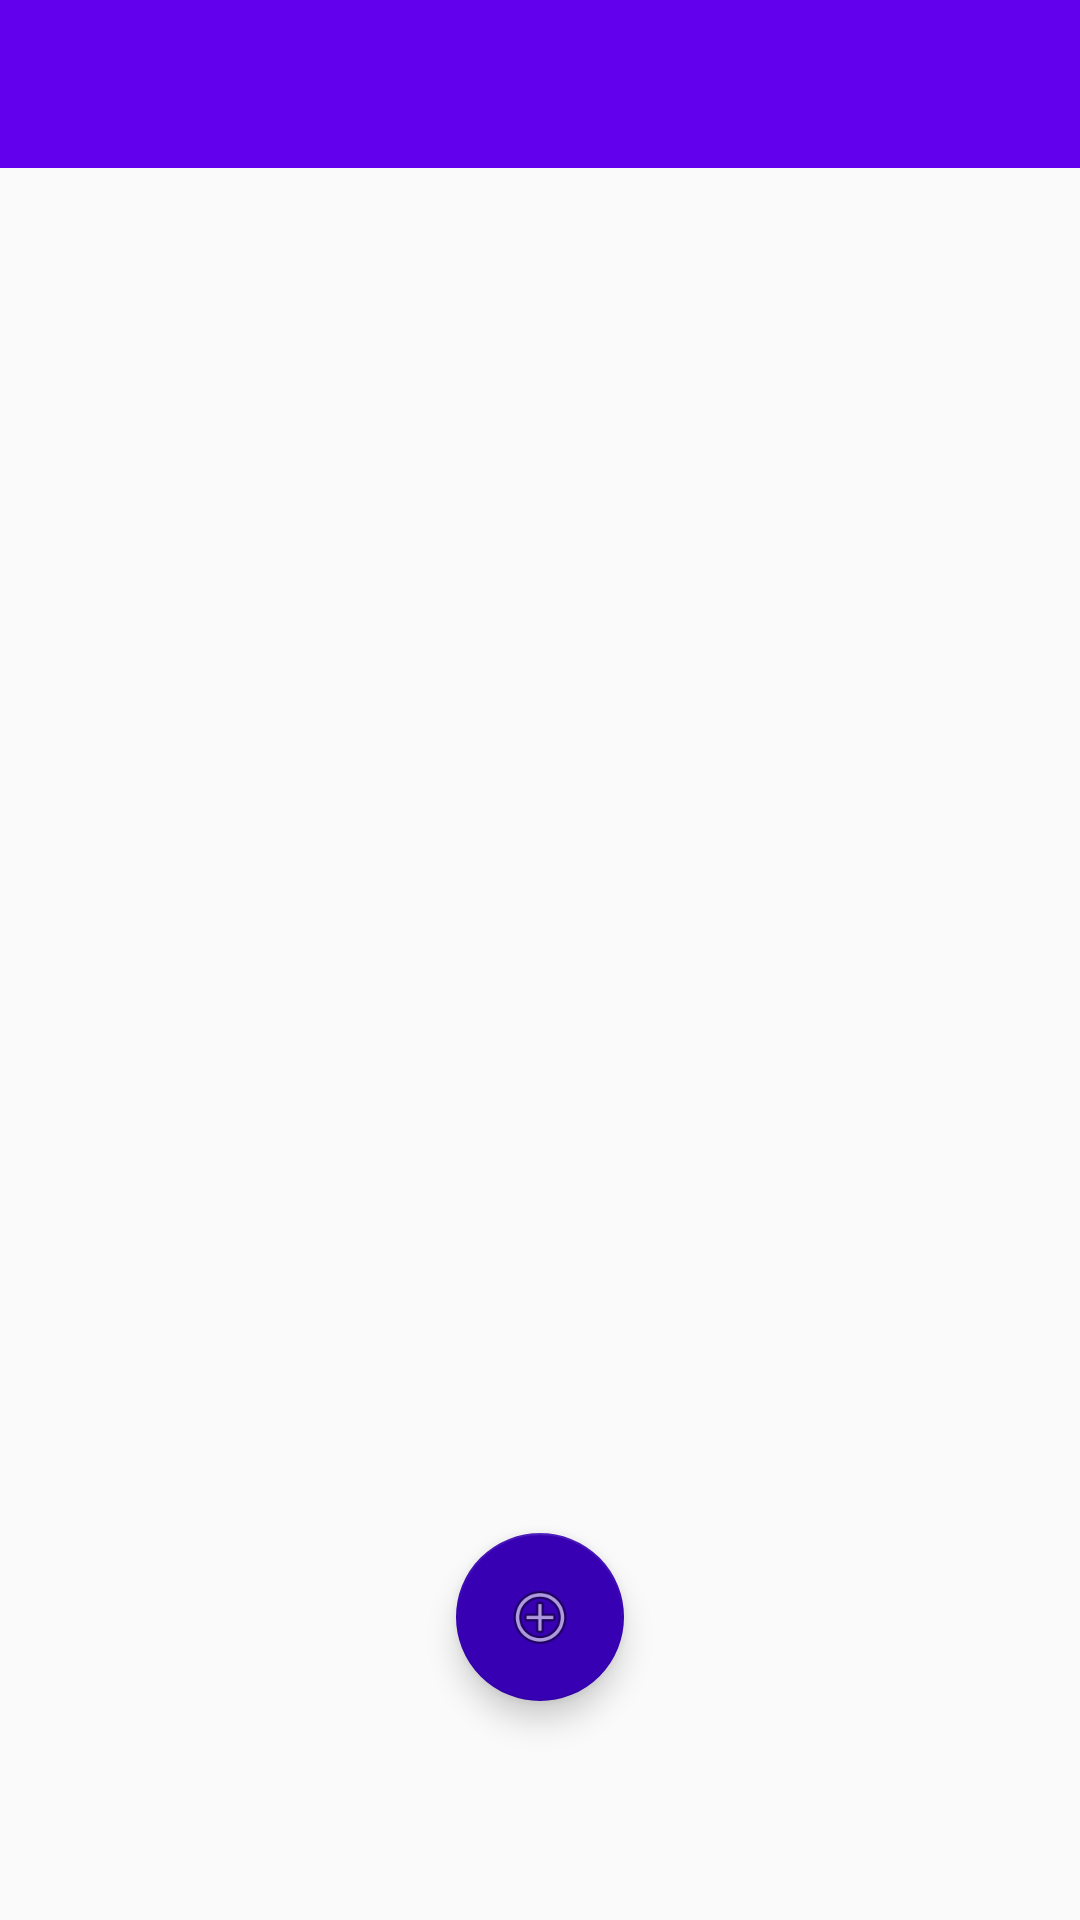

Icons on this 1080 × 1920 Android screen, each with the point to tap as [x,y]:
add: [540,1617]
